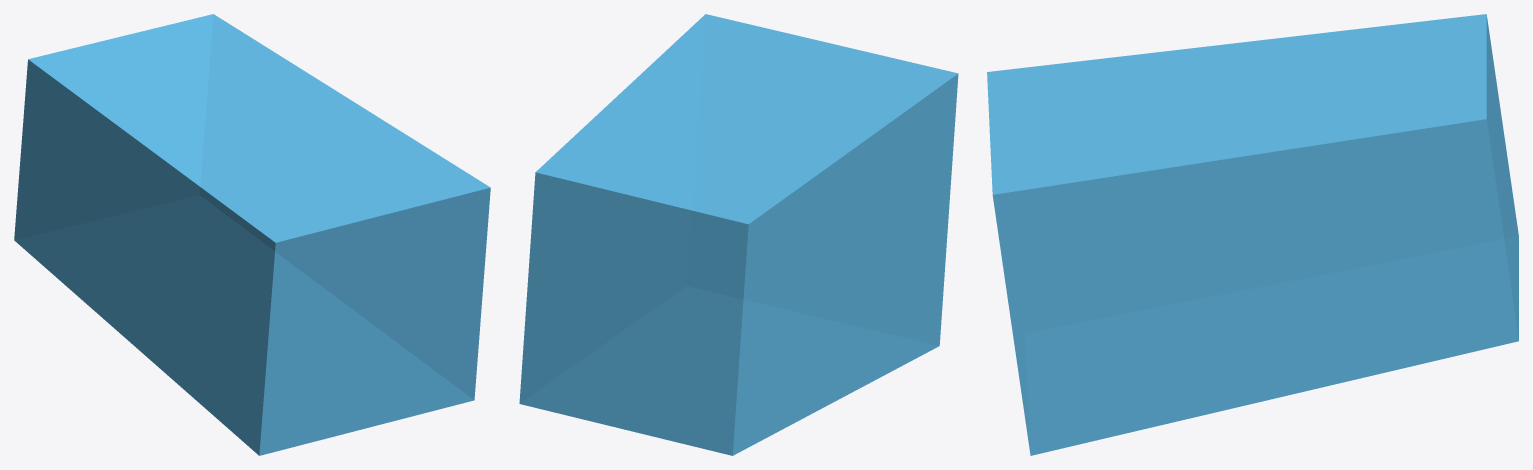
Rendered from Event_420604493_HBrechit_28.fbx.
3 renders of one model, left to right at view 1: azimuth 30°, elevation 25°; view 2: azimuth 150°, elevation 25°; view 3: azimuth 270°, elevation 25°, orthographic. The views are drawn at different scales.
Visible parts, largest first — view 1: Model; view 2: Model; view 3: Model.
Part boxes in pixels (x1,y1,x2,y2): Model: (14,14,490,455); Model: (519,14,958,455); Model: (987,14,1518,455).
Bounding box in the file's own units: 0.545 × 0.5397 × 0.8642.
